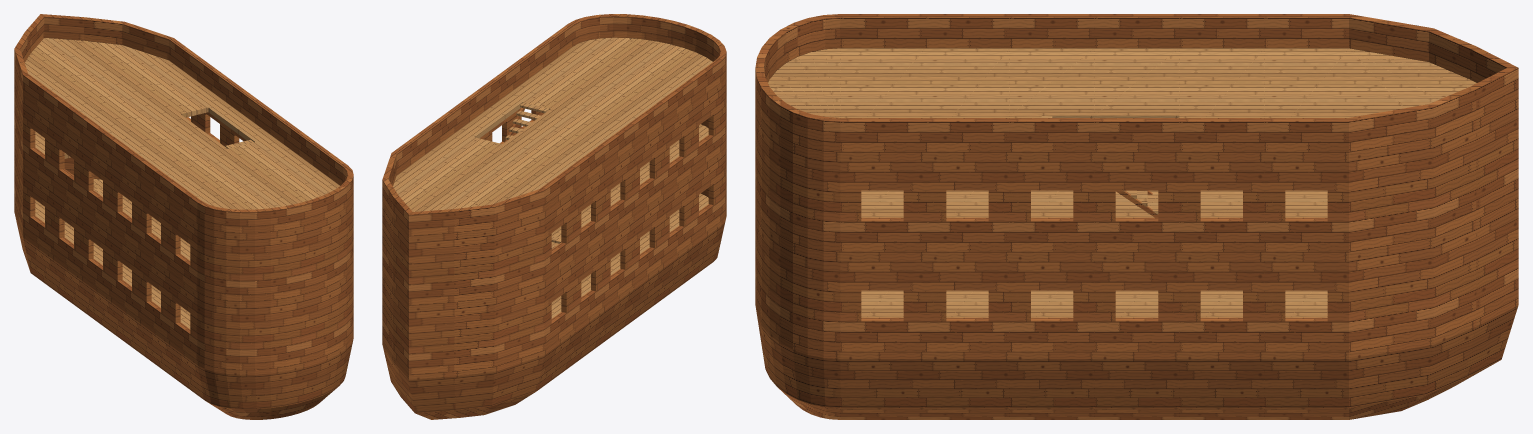
Rendered from TRIPLE_DECK.glb.
3 renders of one model, left to right at view 1: azimuth 30°, elevation 25°; view 2: azimuth 150°, elevation 25°; view 3: azimuth 270°, elevation 25°, orthographic. The views are drawn at different scales.
Parts seen in each view (by area): view 1: 15_MIDDLE_STERN, 31_MIDDLE_STERN, 07_BOTTOM_STERN, 48_FLOOR_BOW, 40_TOP_BOW, 47_TOP_STERN, 50_FLOOR_CENTRE, 53_FLOOR_CENTRE, 49_FLOOR_CENTRE, 54_FLOOR_CENTRE, 52_STAIR_STARBOARD_END, 51_STAIR_STARBOARD_START (+26 smaller); view 2: 08_MIDDLE_BOW, 24_MIDDLE_BOW, 00_BOTTOM_BOW, 40_TOP_BOW, 47_TOP_STERN, 50_FLOOR_CENTRE, 54_FLOOR_CENTRE, 53_FLOOR_CENTRE, 49_FLOOR_CENTRE, 52_STAIR_STARBOARD_END, 51_STAIR_STARBOARD_START, 55_FLOOR_STERN (+28 smaller); view 3: 24_MIDDLE_BOW, 08_MIDDLE_BOW, 40_TOP_BOW, 00_BOTTOM_BOW, 31_MIDDLE_STERN, 15_MIDDLE_STERN, 10_MIDDLE_CENTRE_GUN, 11_MIDDLE_CENTRE_GUN, 12_MIDDLE_CENTRE_GUN, 26_MIDDLE_CENTRE_GUN, 27_MIDDLE_CENTRE_GUN, 28_MIDDLE_CENTRE_GUN (+40 smaller).
Part boxes in pixels (box(x1,y1,x2,y2)): 15_MIDDLE_STERN: box(197, 265, 353, 369); 31_MIDDLE_STERN: box(197, 197, 353, 301); 07_BOTTOM_STERN: box(197, 334, 353, 419); 48_FLOOR_BOW: box(25, 38, 168, 89); 40_TOP_BOW: box(14, 14, 173, 94); 47_TOP_STERN: box(197, 165, 353, 233); 50_FLOOR_CENTRE: box(79, 81, 226, 131); 53_FLOOR_CENTRE: box(166, 145, 313, 195); 49_FLOOR_CENTRE: box(50, 60, 197, 110); 54_FLOOR_CENTRE: box(195, 167, 339, 209); 52_STAIR_STARBOARD_END: box(137, 124, 284, 174); 51_STAIR_STARBOARD_START: box(108, 103, 255, 152); 08_MIDDLE_BOW: box(382, 271, 544, 374); 24_MIDDLE_BOW: box(382, 201, 544, 305); 00_BOTTOM_BOW: box(382, 340, 544, 419); 40_TOP_BOW: box(382, 153, 544, 236); 47_TOP_STERN: box(568, 14, 726, 81); 50_FLOOR_CENTRE: box(426, 132, 575, 183); 54_FLOOR_CENTRE: box(544, 46, 693, 97); 53_FLOOR_CENTRE: box(514, 68, 664, 118); 49_FLOOR_CENTRE: box(397, 154, 546, 201); 52_STAIR_STARBOARD_END: box(485, 89, 634, 140); 51_STAIR_STARBOARD_START: box(456, 111, 605, 161); 55_FLOOR_STERN: box(573, 37, 712, 75); 24_MIDDLE_BOW: box(1349, 98, 1518, 251); 08_MIDDLE_BOW: box(1349, 198, 1518, 351); 40_TOP_BOW: box(1349, 14, 1518, 151); 00_BOTTOM_BOW: box(1349, 298, 1518, 419); 31_MIDDLE_STERN: box(755, 99, 840, 251); 15_MIDDLE_STERN: box(755, 199, 840, 351); 10_MIDDLE_CENTRE_GUN: box(1179, 252, 1264, 351); 11_MIDDLE_CENTRE_GUN: box(1094, 252, 1179, 351); 12_MIDDLE_CENTRE_GUN: box(1009, 252, 1094, 351); 26_MIDDLE_CENTRE_GUN: box(1179, 152, 1264, 251); 27_MIDDLE_CENTRE_GUN: box(1094, 152, 1179, 251); 28_MIDDLE_CENTRE_GUN: box(1009, 152, 1094, 251).
Bounding box in the file's own units: 6 × 8.6 × 18.
Materials: 2 (2 with a texture image).
